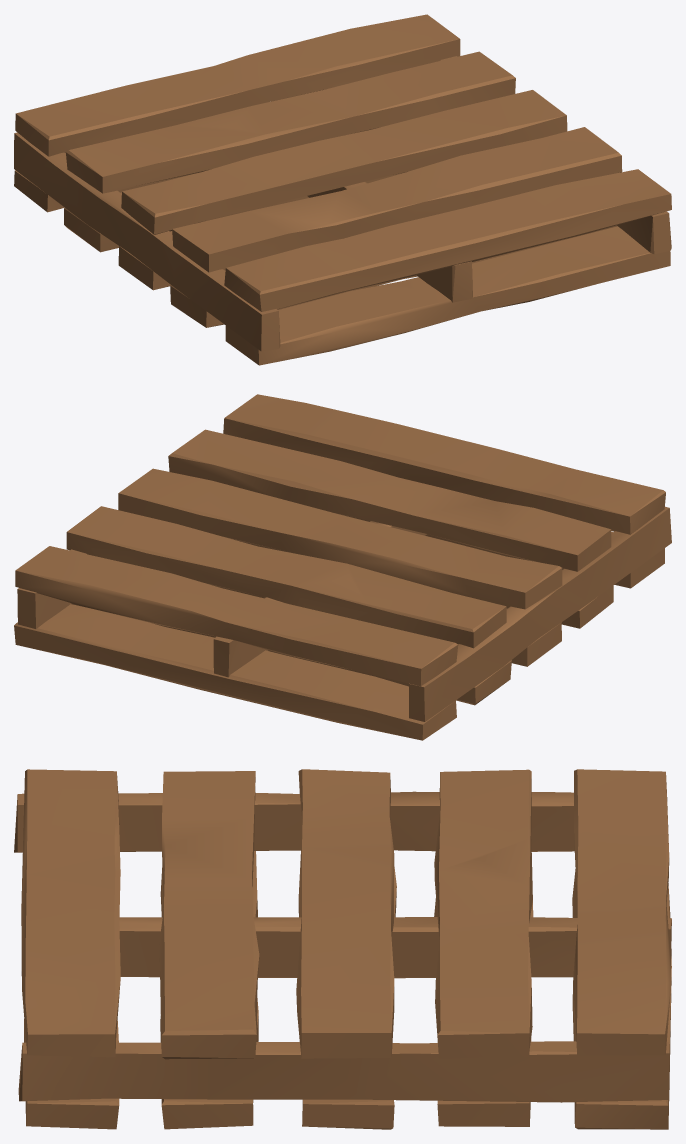
File: WoodPalette.fbx
3 renders of one model, top to bottom at view 1: azimuth 30°, elevation 25°; view 2: azimuth 150°, elevation 25°; view 3: azimuth 270°, elevation 25°, orthographic. The views are drawn at different scales.
Parts seen in each view (by area): view 1: ShelvesDouble.001; view 2: ShelvesDouble.001; view 3: ShelvesDouble.001.
Boxes of the visible parts, box(x1,y1,x2,y2) form: ShelvesDouble.001: box(14, 14, 671, 365); ShelvesDouble.001: box(14, 394, 671, 740); ShelvesDouble.001: box(14, 769, 671, 1129).
Size of the model in its own units: 162 by 29.88 by 170.
Materials: 1 (1 with a texture image).
